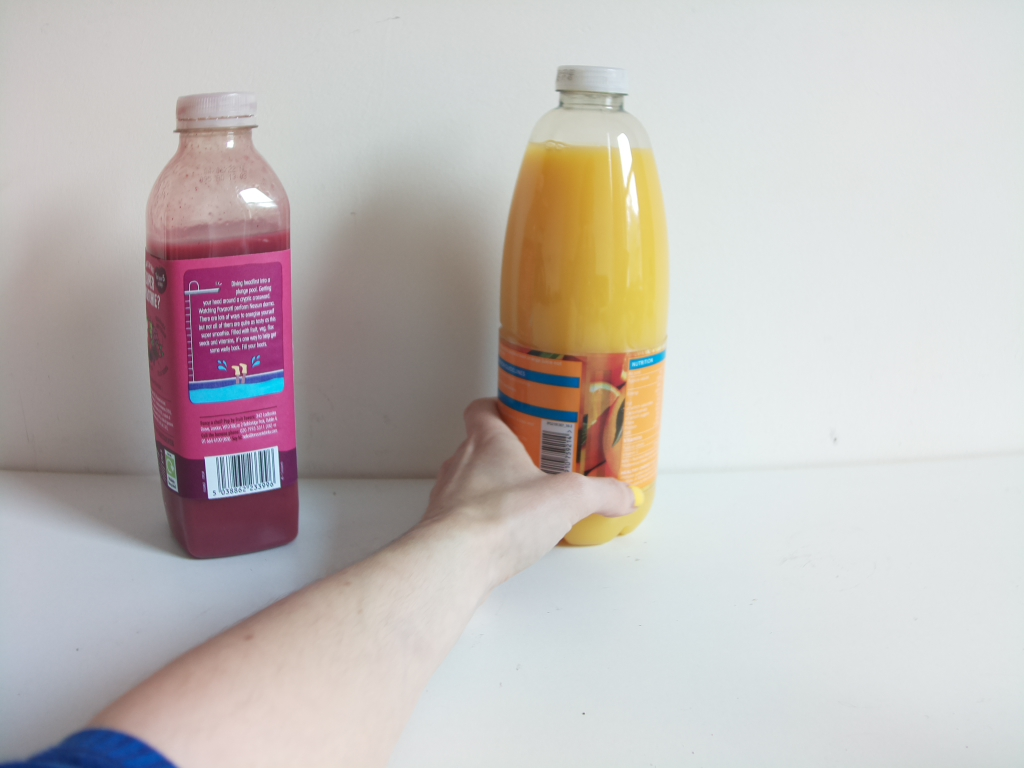juice: (489, 66, 684, 552), (140, 84, 305, 559)
